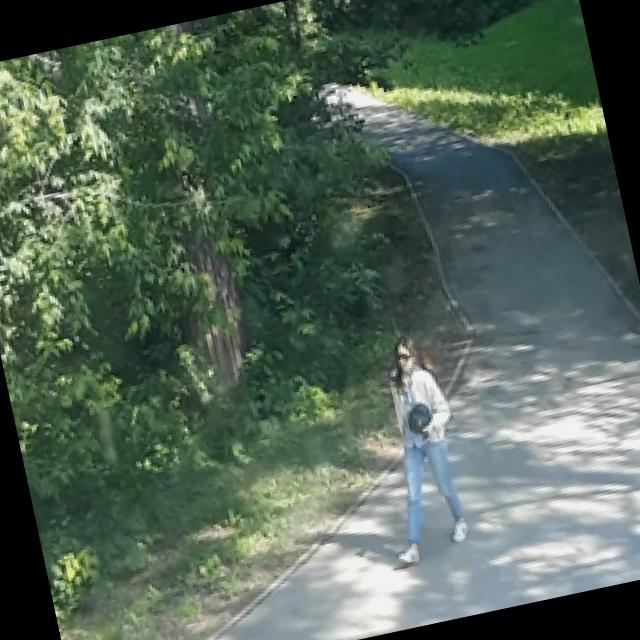person: (354, 330, 478, 564)
